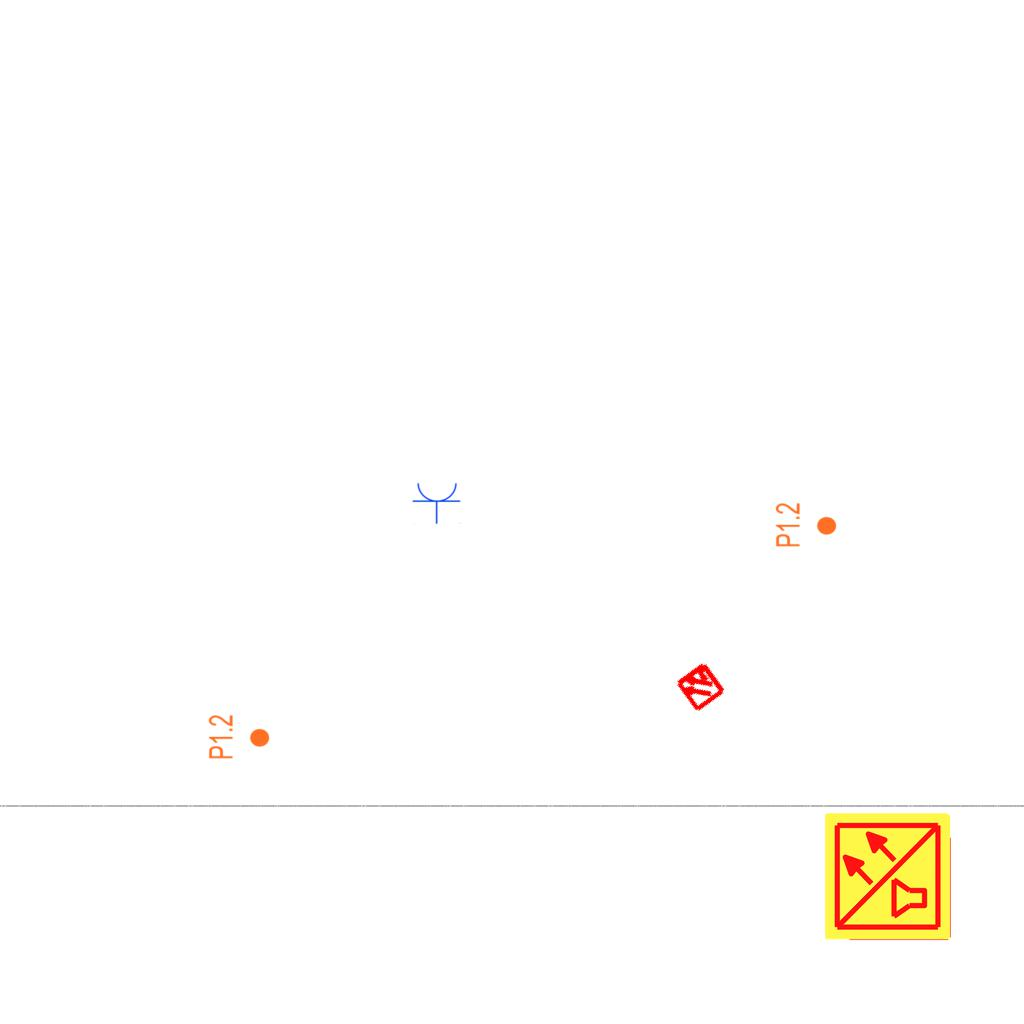Downlight_LED_Einbauleuchten_Flur: (207, 714, 271, 760), (774, 502, 838, 548)
OKW_Multisensormelder_(Kombination_optischer_Rauch-Kahlenmonoxid_Waerme-Melder): (822, 810, 954, 942)
OT_Multisensormelder_(Kombination_RMO_WMD): (660, 646, 740, 726)
Schukosteckdose_einfach: (412, 481, 462, 524)
